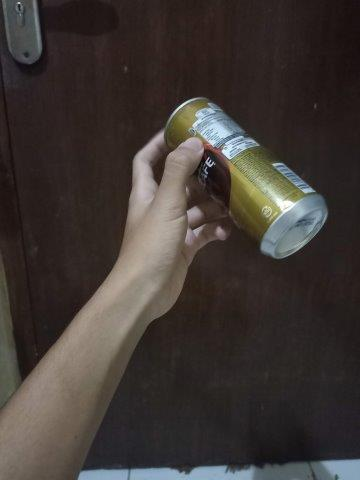kaleng: (165, 97, 328, 260)
